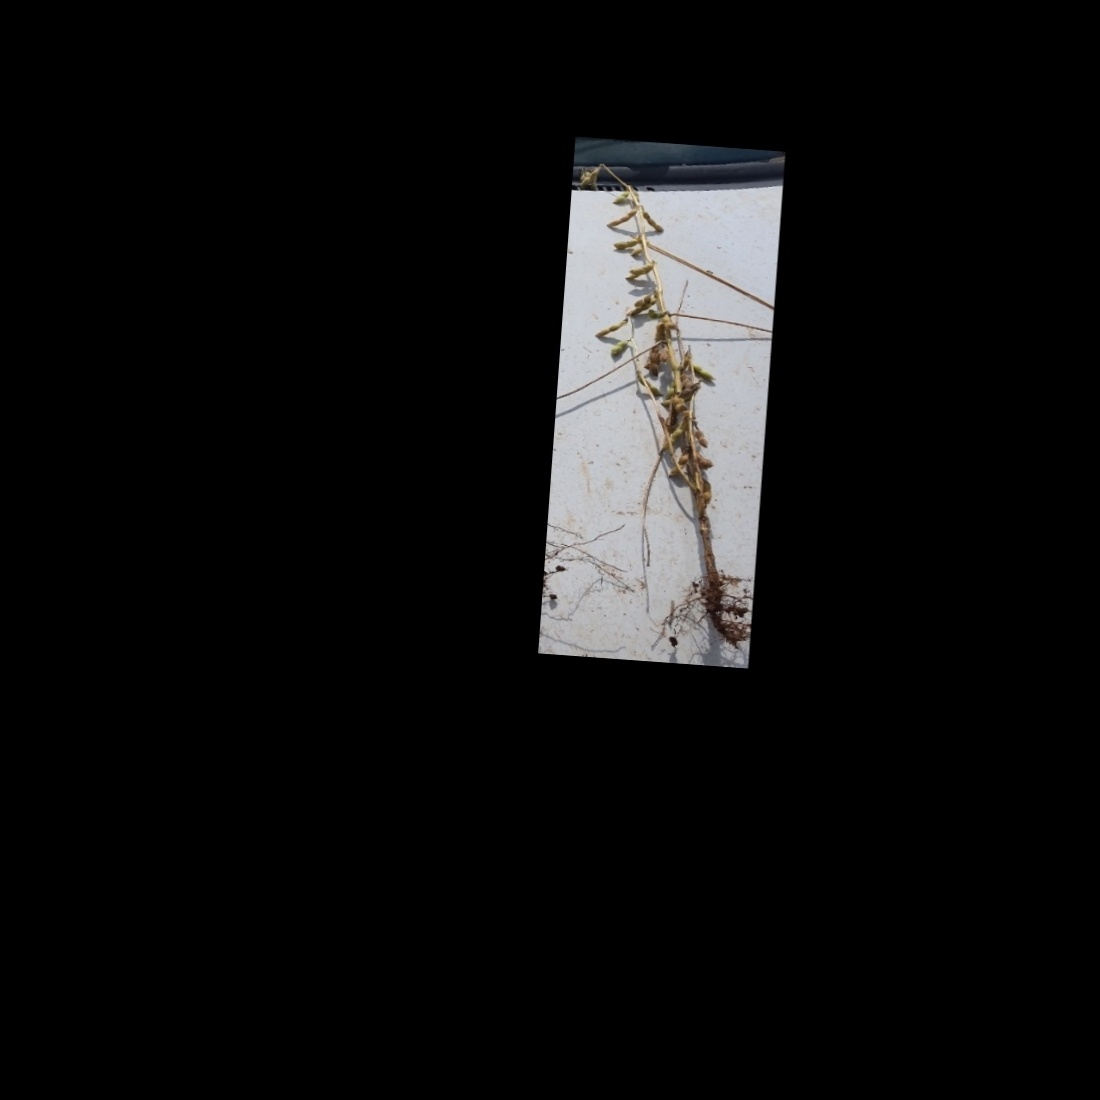pod: (594, 316, 625, 340), (606, 207, 638, 230), (688, 362, 718, 381), (643, 209, 666, 233), (693, 427, 714, 450), (608, 338, 627, 358), (611, 236, 638, 249), (611, 188, 629, 205), (628, 245, 643, 260)
soy: (540, 155, 769, 657)
